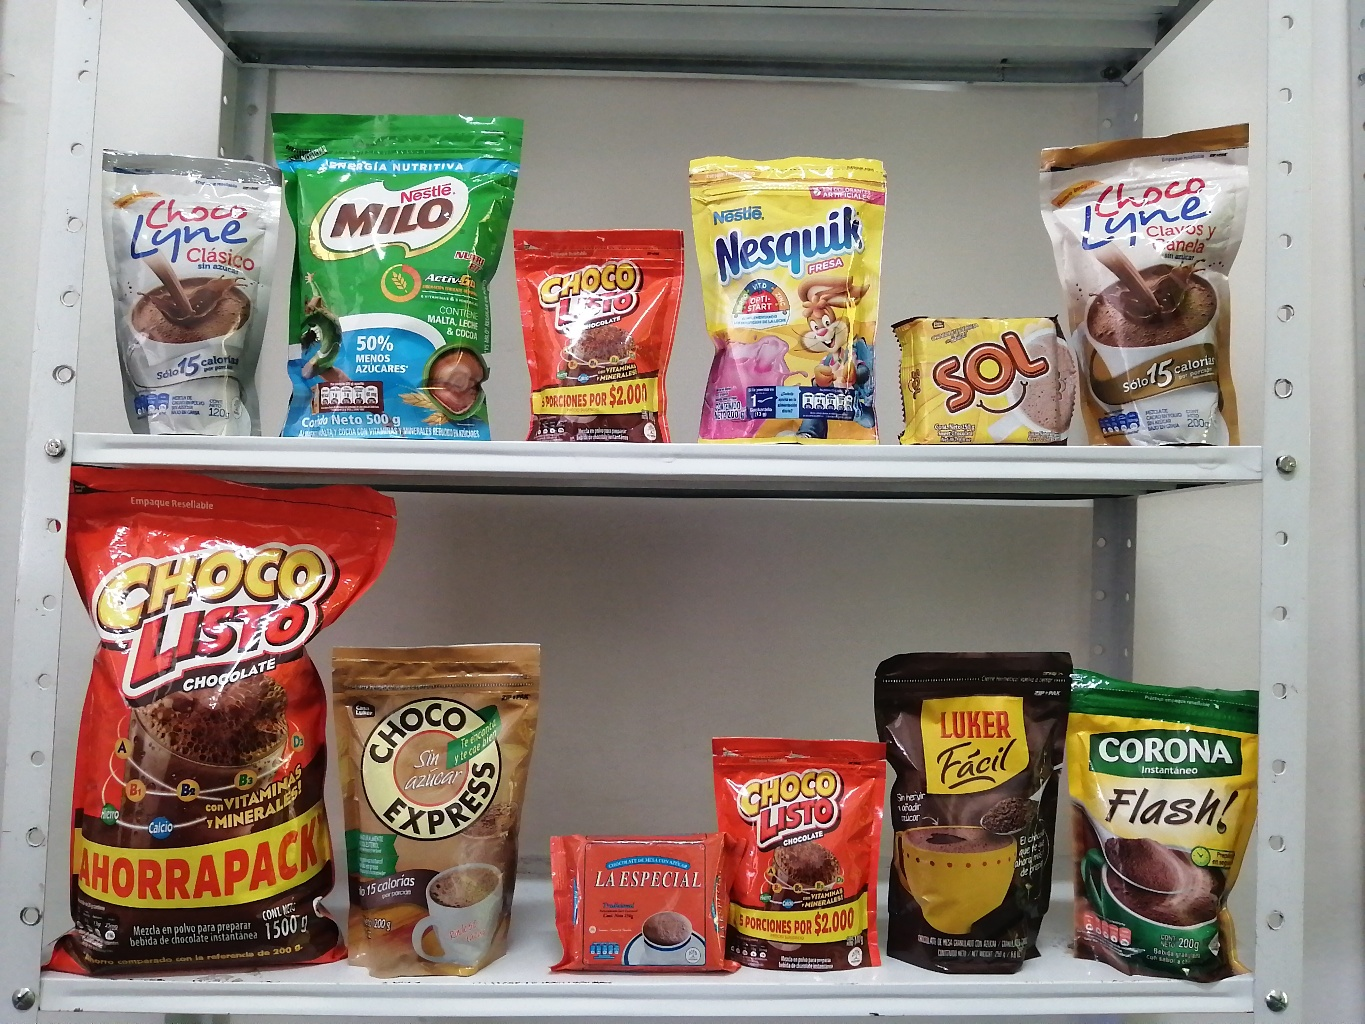COL0170103DYP1,500: (22, 452, 407, 1001)
COL0170205DYP50000: (260, 94, 529, 455)
COL0170305DYP20000: (669, 131, 912, 461)
